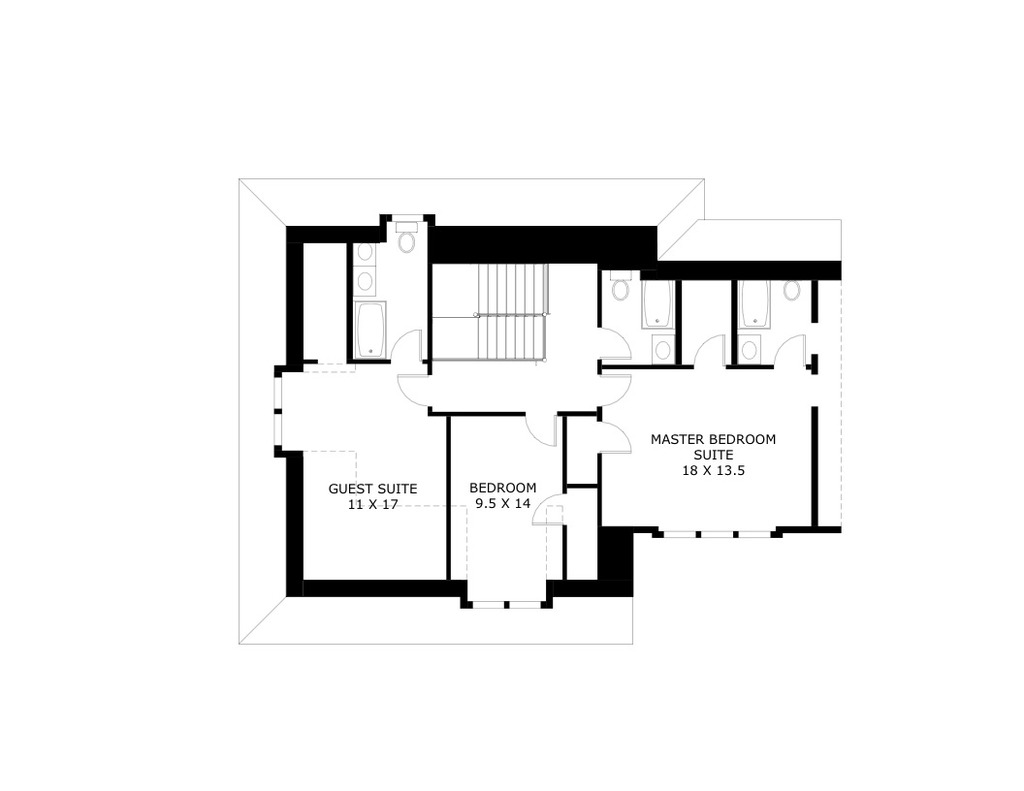door: (523, 486, 576, 530), (390, 369, 437, 414), (518, 403, 560, 444), (772, 333, 811, 377), (593, 371, 634, 409), (689, 333, 725, 374), (389, 328, 426, 366), (596, 330, 632, 369), (593, 418, 632, 453)
large_sink: (390, 213, 429, 257), (605, 268, 631, 304)
small_sink: (353, 242, 381, 292), (732, 332, 764, 368), (655, 332, 675, 363)
stairs: (425, 261, 557, 364)
tub: (349, 296, 383, 366), (740, 277, 773, 328), (639, 280, 670, 327)
window: (659, 522, 777, 541), (471, 596, 546, 614), (273, 375, 288, 450)
